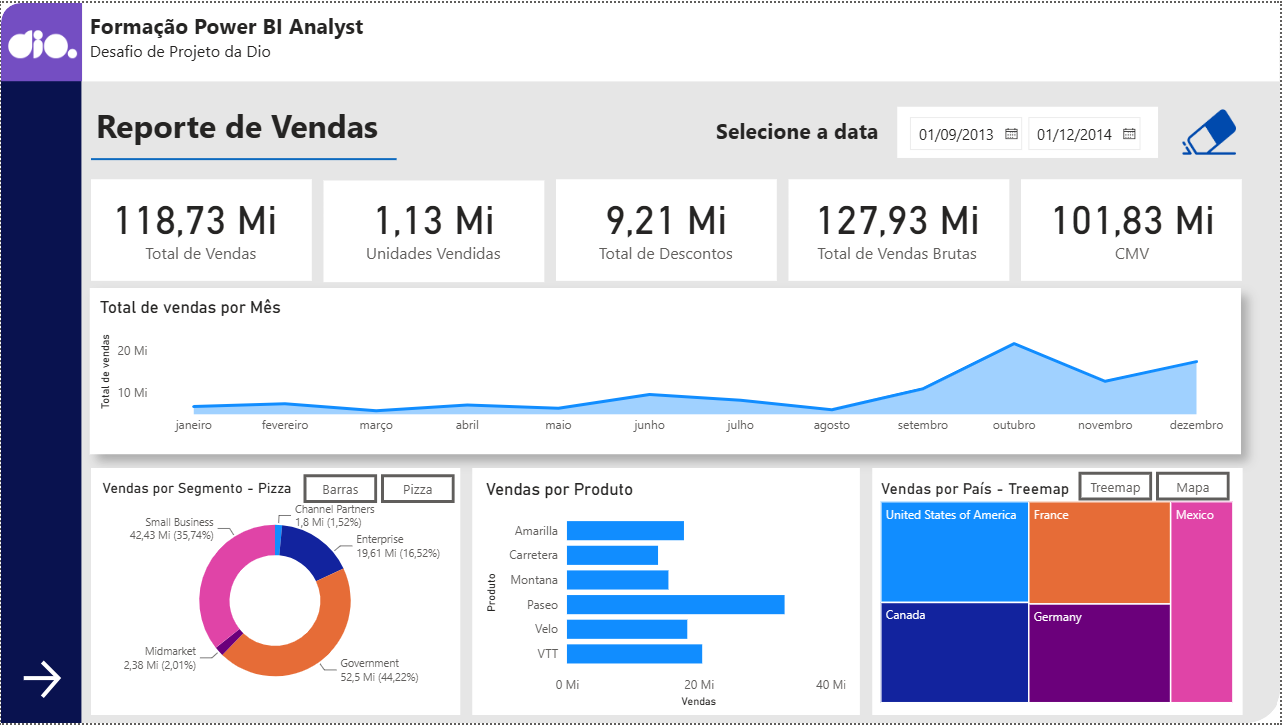

The dashboard page shown, as its layout file describes it:
{"tool":"powerbi","page":{"name":"Reporte de Vendas","canvas":[1280,720],"ordinal":0},"visuals":[{"type":"shape","box":[0,0,1280.3,720.2],"z":0},{"type":"shape","box":[90.5,176.1,221.1,101.7],"z":0,"group":"g1"},{"type":"shape","box":[0,0,80.7,720.2],"z":1000},{"type":"shape","box":[322.9,177.1,221.1,101.7],"z":1000,"group":"g1"},{"type":"shape","box":[0,0,81.2,78.8],"z":2000},{"type":"shape","box":[555.3,176.1,221.1,101.7],"z":2000,"group":"g1"},{"type":"map","title":"Vendas por País - Mapa","fields":{"Category":["financials.Country"],"Size":["Sum(financials. Sales)"]},"box":[875.5,476.9,362,228.7],"z":2000,"group":"g2"},{"type":"treemap","title":"Vendas por País - Treemap","fields":{"Values":["Sum(financials. Sales)"],"Group":["financials.Country"]},"box":[875.5,475.6,362,228.7],"z":2500,"group":"g2"},{"type":"image","box":[2.5,2.5,78.8,77.5],"z":3000},{"type":"shape","box":[787.7,176.1,221.1,101.7],"z":3000,"group":"g1"},{"type":"actionButton","title":"Botão - Treemap","box":[1078.5,468.2,73.8,28.8],"z":3000,"group":"g2"},{"type":"shape","box":[1020,176.1,221.1,101.7],"z":4000,"group":"g1"},{"type":"actionButton","title":"Botão - Mapa","box":[1156,468.2,73.8,28.8],"z":4000,"group":"g2"},{"type":"shape","box":[89,284.9,1151.2,166.2],"z":5000},{"type":"group","id":"g1","title":"Grupo 1","box":[90.5,176.1,1150.7,102.7],"z":6000},{"type":"shape","box":[90.5,464.7,369.3,247],"z":7000},{"type":"image","box":[1175,97.5,66.2,63.8],"z":8000},{"type":"shape","box":[470.8,464.7,387.6,247],"z":9000},{"type":"textbox","box":[90,96.2,332.5,65],"z":10000},{"type":"shape","box":[870.7,464.7,370.5,247],"z":11000},{"type":"shape","box":[90.5,122.3,305.7,67.3],"z":12000},{"type":"shape","box":[80.7,0,1198.8,78.8],"z":12250},{"type":"textbox","box":[83.8,2.5,332.5,65],"z":12500},{"type":"textbox","box":[710.5,107.6,177.3,44],"z":13000},{"type":"slicer","fields":{"Values":["financials.Date"]},"box":[896.5,103.9,260.5,51.4],"z":14000},{"type":"cardVisual","fields":{"Data":["Sum(financials.Gross Sales)"]},"box":[789.9,181,212.8,92.9],"z":15000},{"type":"cardVisual","fields":{"Data":["Sum(financials. Sales)"]},"box":[94.2,181,212.8,92.9],"z":16000},{"type":"cardVisual","fields":{"Data":["Sum(financials.Units Sold)"]},"box":[326.5,181,212.8,92.9],"z":17000},{"type":"cardVisual","fields":{"Data":["Sum(financials.Discounts)"]},"box":[558.8,181,212.8,92.9],"z":18000},{"type":"cardVisual","fields":{"Data":["Sum(financials.COGS)"]},"box":[1024.7,181,212.8,92.9],"z":19000},{"type":"areaChart","fields":{"Y":["Sum(financials. Sales)"],"Category":["financials.Date.Variation.Hierarquia de datas.Mês"]},"box":[93.2,294,1143.3,146.7],"z":20000},{"type":"clusteredBarChart","fields":{"Y":["Sum(financials. Sales)"],"Category":["financials.Product"]},"box":[478.1,475.7,370.5,228.7],"z":21000},{"type":"donutChart","title":"Vendas por Segmento - Pizza","fields":{"Category":["financials.Segment"],"Y":["Sum(financials. Sales)"]},"box":[96.6,475.6,355.8,226.2],"z":22000,"group":"g3"},{"type":"actionButton","title":"Botão - Próxima página","box":[15.9,653,51.4,47.7],"z":22000},{"type":"group","id":"g2","title":"Grupo 2","box":[875.5,468.2,362,237.3],"z":23000},{"type":"group","id":"g3","title":"Grupo 3","box":[96.6,471.2,357.1,230.7],"z":24000},{"type":"clusteredBarChart","title":"Vendas x Segmento - Barras","fields":{"Category":["financials.Segment"],"Y":["Sum(financials. Sales)"]},"box":[96.6,474.4,355.8,226.2],"z":24000,"group":"g3"},{"type":"actionButton","title":"Botão - Barras","box":[302.5,471.2,73.8,28.8],"z":25000,"group":"g3"},{"type":"actionButton","title":"Botão - Pizza","box":[380,471.2,73.8,28.8],"z":26000,"group":"g3"}]}

Visuals, with their boxes on the page's 1280x720 design canvas (x1, y1, x2, y2). These are canvas units, not pixel positions in the 1282x725 screenshot, which may show the page scaled, cropped or inside an application window:
shape: 0 0 1280 720
shape: 90 176 312 278
shape: 0 0 81 720
shape: 323 177 544 279
shape: 0 0 81 79
shape: 555 176 776 278
"Vendas por País - Mapa" map: 876 477 1238 706
"Vendas por País - Treemap" treemap: 876 476 1238 704
image: 2 2 81 80
shape: 788 176 1009 278
"Botão - Treemap" actionButton: 1078 468 1152 497
shape: 1020 176 1241 278
"Botão - Mapa" actionButton: 1156 468 1230 497
shape: 89 285 1240 451
"Grupo 1" group: 90 176 1241 279
shape: 90 465 460 712
image: 1175 98 1241 161
shape: 471 465 858 712
textbox: 90 96 422 161
shape: 871 465 1241 712
shape: 90 122 396 190
shape: 81 0 1280 79
textbox: 84 2 416 68
textbox: 710 108 888 152
slicer - financials.Date: 896 104 1157 155
cardVisual - Sum(financials.Gross Sales): 790 181 1003 274
cardVisual - Sum(financials. Sales): 94 181 307 274
cardVisual - Sum(financials.Units Sold): 326 181 539 274
cardVisual - Sum(financials.Discounts): 559 181 772 274
cardVisual - Sum(financials.COGS): 1025 181 1238 274
areaChart - Sum(financials. Sales) x financials.Date.Variation.Hierarquia de datas.Mês: 93 294 1236 441
clusteredBarChart - Sum(financials. Sales) x financials.Product: 478 476 849 704
"Vendas por Segmento - Pizza" donutChart: 97 476 452 702
"Botão - Próxima página" actionButton: 16 653 67 701
"Grupo 2" group: 876 468 1238 706
"Grupo 3" group: 97 471 454 702
"Vendas x Segmento - Barras" clusteredBarChart: 97 474 452 701
"Botão - Barras" actionButton: 302 471 376 500
"Botão - Pizza" actionButton: 380 471 454 500
